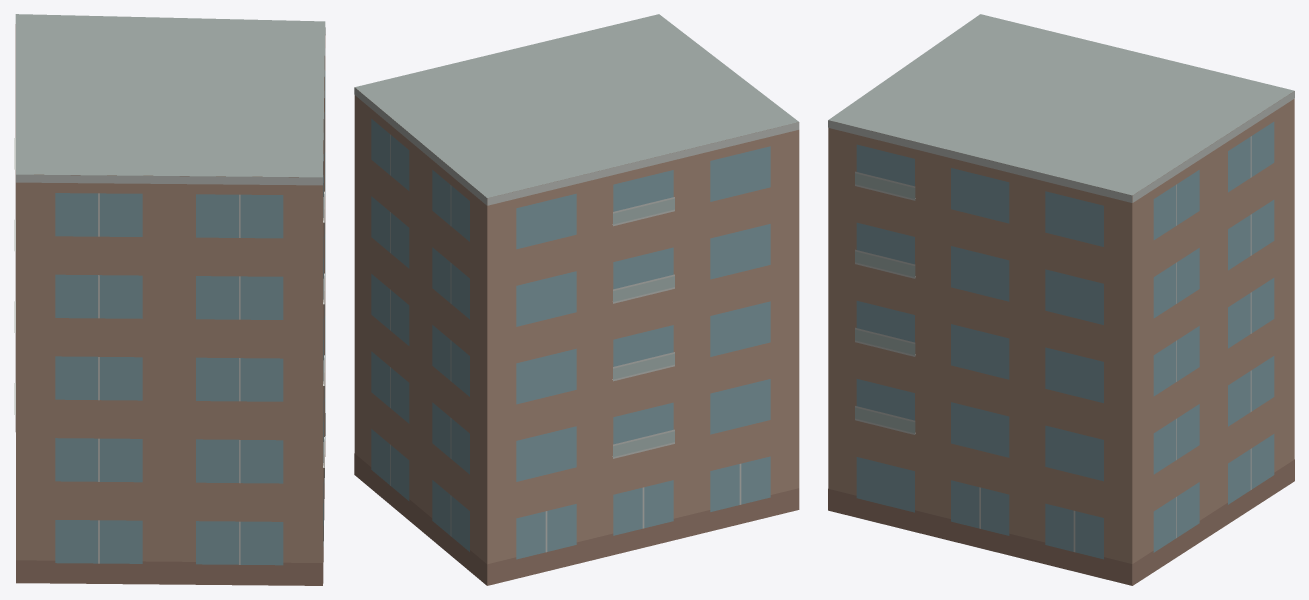
Rendered from survey-upis-32478188.glb.
3 views of the same model, side by side, from view 1: azimuth 30°, elevation 25°; view 2: azimuth 150°, elevation 25°; view 3: azimuth 270°, elevation 25° (orthographic). The views are drawn at different scales.
Parts seen in each view (by area): view 1: survey-upis-32478188.tmp; view 2: survey-upis-32478188.tmp; view 3: survey-upis-32478188.tmp.
Part boxes in pixels (bbox=[...]): survey-upis-32478188.tmp: bbox=[14, 14, 325, 585]; survey-upis-32478188.tmp: bbox=[354, 14, 799, 585]; survey-upis-32478188.tmp: bbox=[828, 14, 1294, 585].
Bounding box in the file's own units: 12.33 × 12.36 × 13.4.
